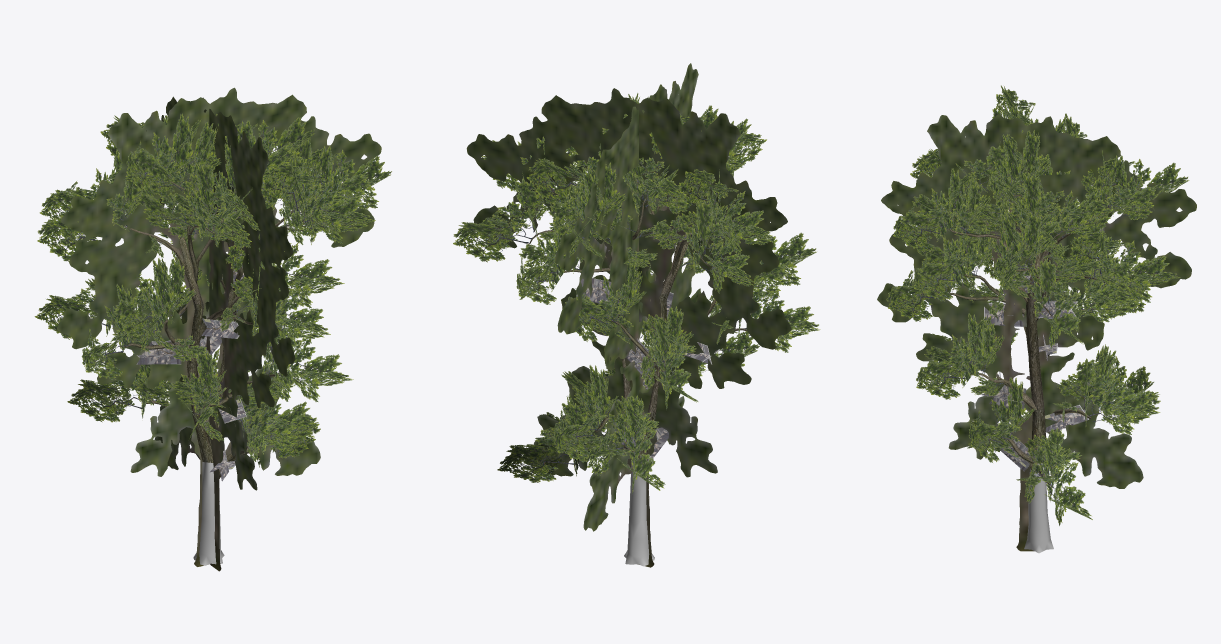
Rendered from Tree-Oak1A.fbx.
The picture shows the model from 3 angles, left to right: view 1: azimuth 30°, elevation 25°; view 2: azimuth 150°, elevation 25°; view 3: azimuth 270°, elevation 25°; orthographic projection. The views are drawn at different scales.
Parts seen in each view (by area): view 1: Tree-Oak1A_LOD0, Billboard-Oak1A; view 2: Billboard-Oak1A, Tree-Oak1A_LOD0; view 3: Tree-Oak1A_LOD0, Billboard-Oak1A.
Part boxes in pixels (left/top/right/bottom): Tree-Oak1A_LOD0: left=34, top=113, right=391, bottom=565; Billboard-Oak1A: left=57, top=87, right=381, bottom=571; Billboard-Oak1A: left=466, top=63, right=791, bottom=567; Tree-Oak1A_LOD0: left=453, top=93, right=820, bottom=566; Tree-Oak1A_LOD0: left=886, top=85, right=1189, bottom=553; Billboard-Oak1A: left=877, top=114, right=1196, bottom=551.
Size of what is drawn, in the model's own units: 1929 by 2549 by 1664.
